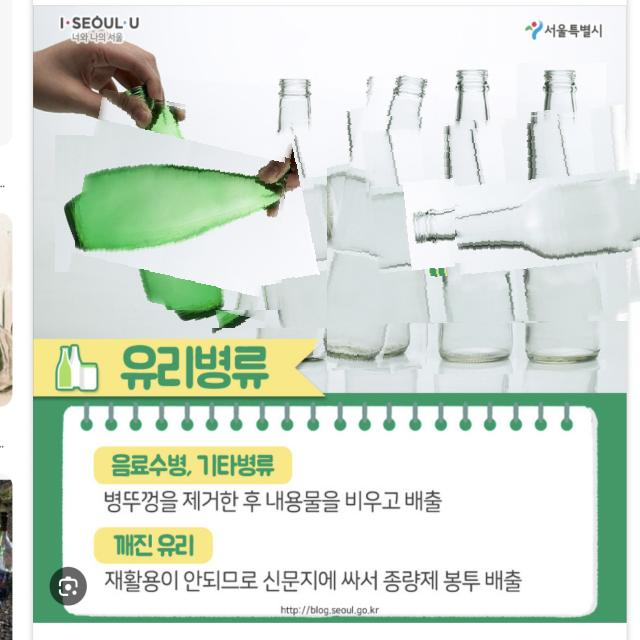recyclable: (187, 116, 399, 328), (75, 98, 286, 310), (369, 115, 578, 323), (455, 110, 640, 321), (327, 70, 440, 372)
